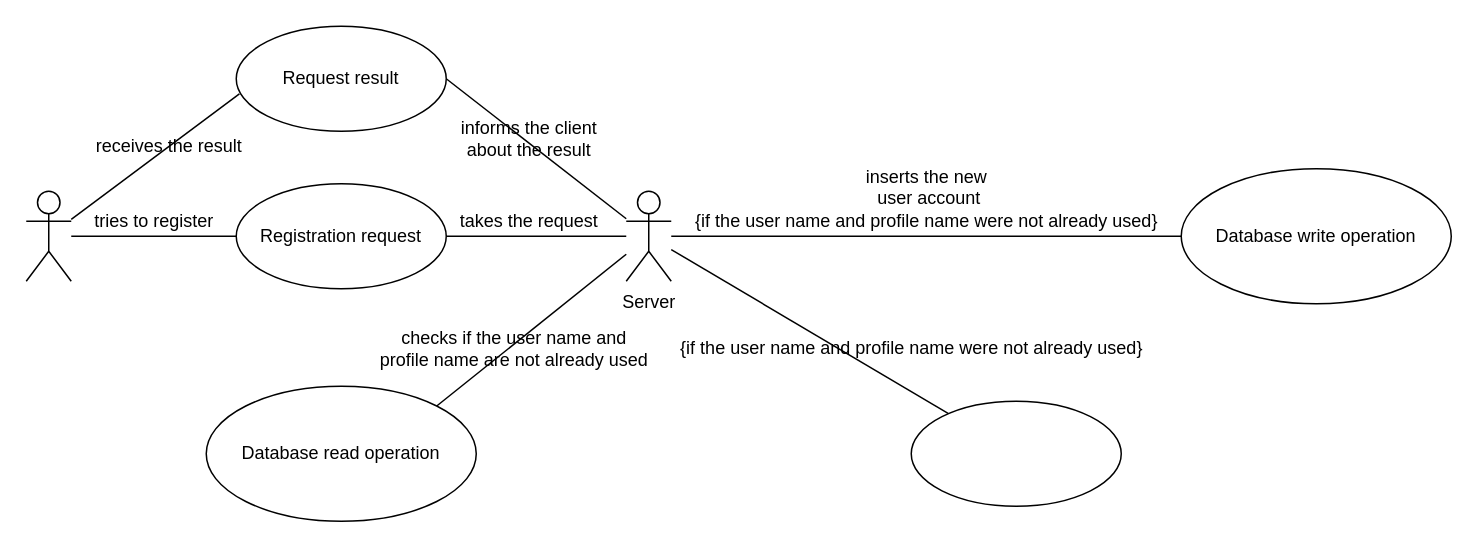
The diagram is 1478 pixels wide and 548 high, and some of its shapes have lost their labels. Here are the shapes that lost their labels. From the top down, the centre of each, then its label:
[48,235]: User
[1015,453]: Resets the number of wrong credentials login tries
